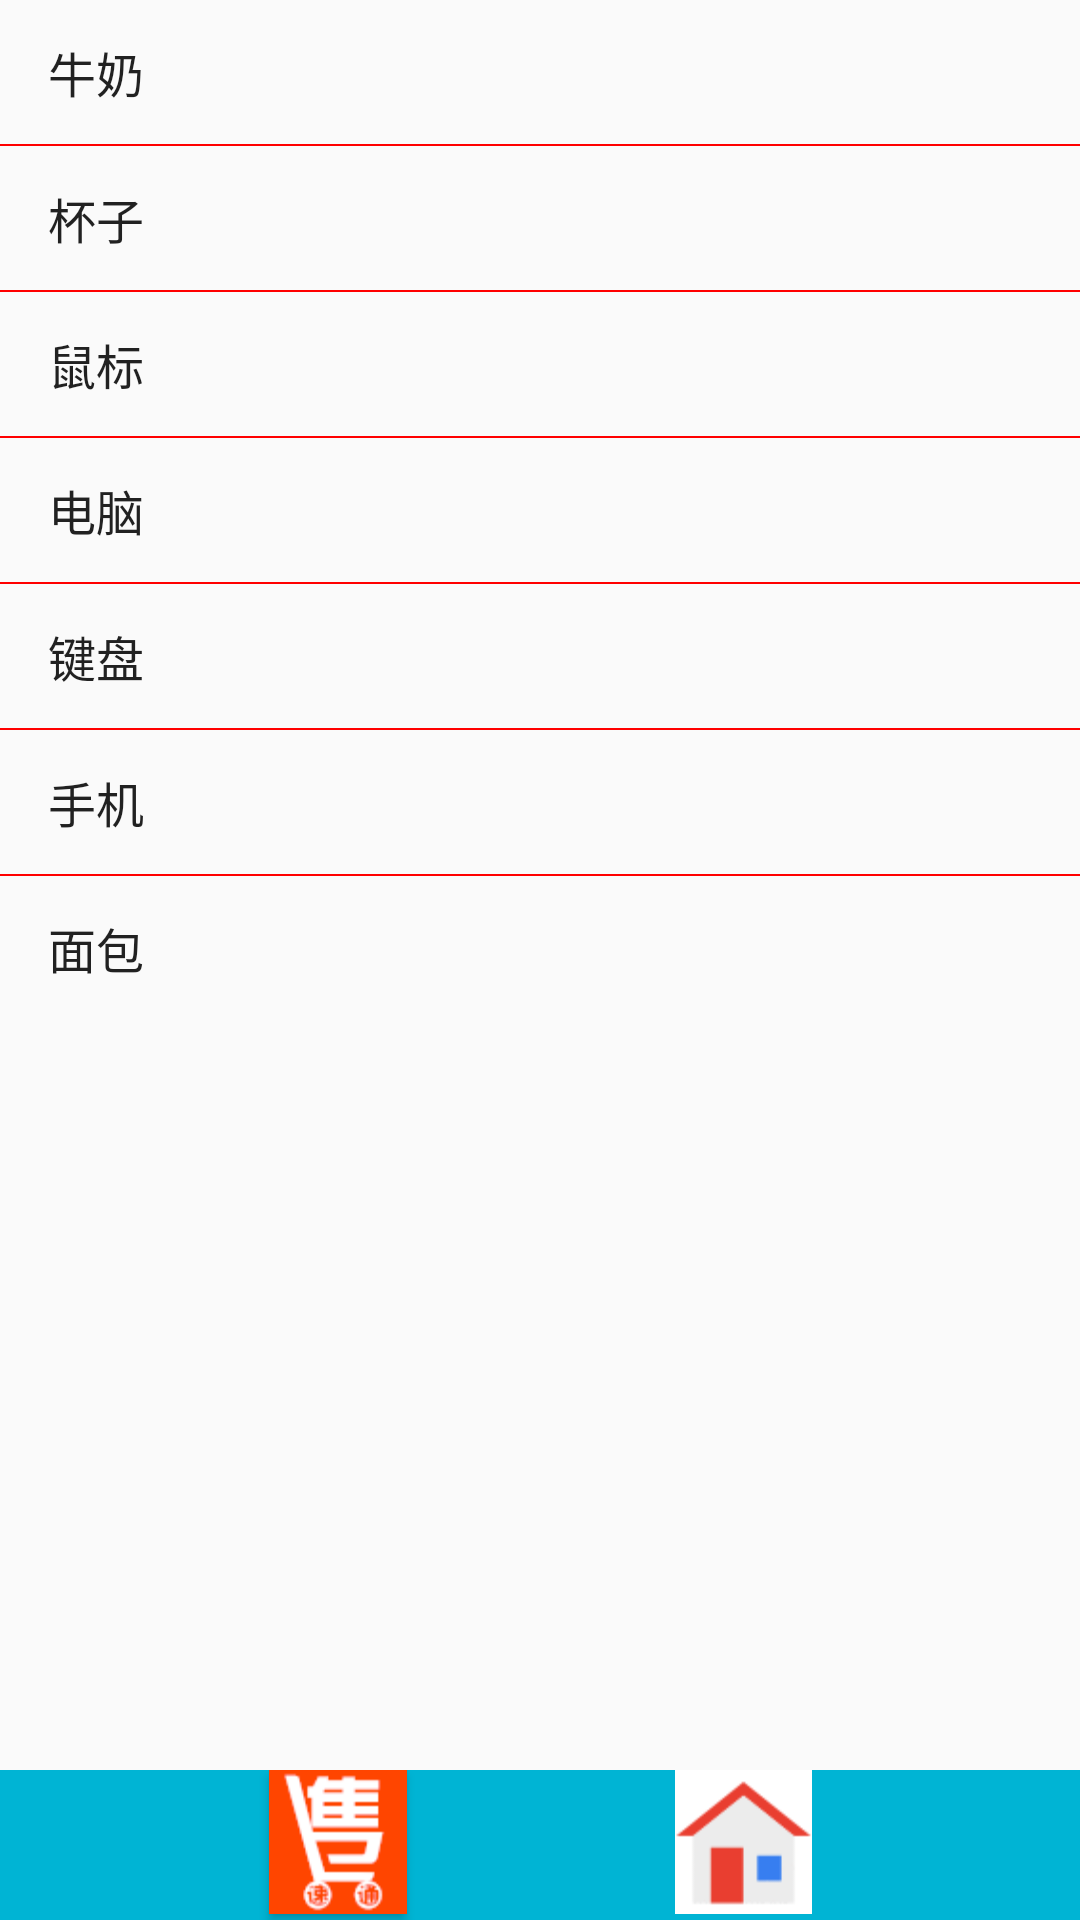

Icons on this 1080*1920 Android screen, each with the point to tap as point (x, y):
home: point (743, 1843)
